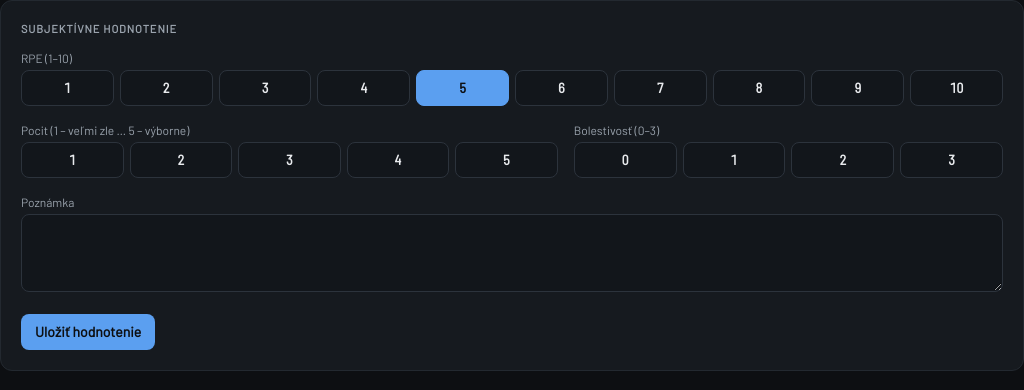
SubjectiveForm › posts the selection, clears a value by clicking it again and confirms the save
Click the 1st radio button labelled "5" at (463, 88), box [416,70,509,106]
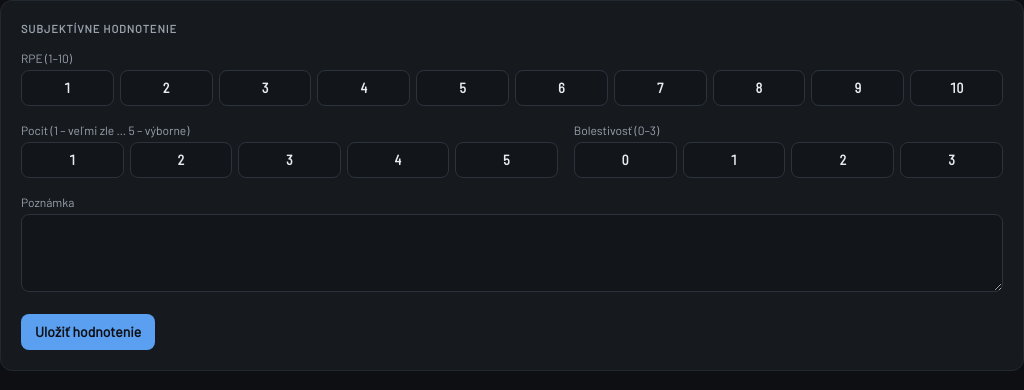
Click the radio button labelled "3" below "RPE (1–10)" at (265, 88), box [219,70,311,106]
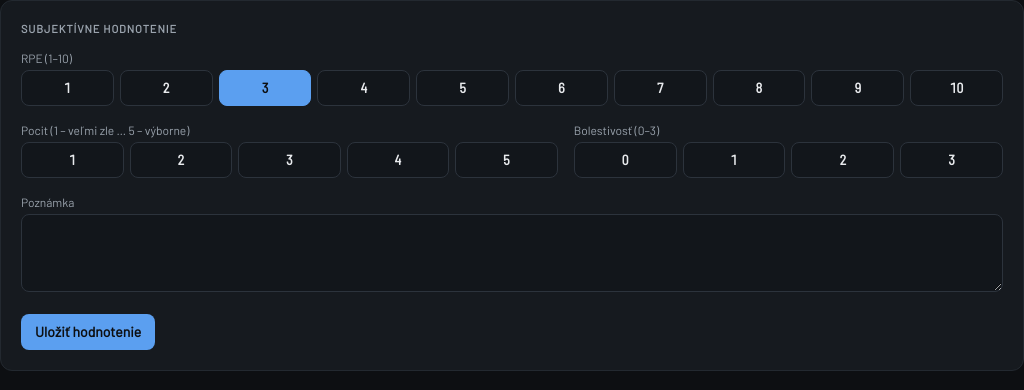
Type "  ťažké nohy " into the text box labelled "Poznámka" at (512, 252), box [21,214,1003,292]
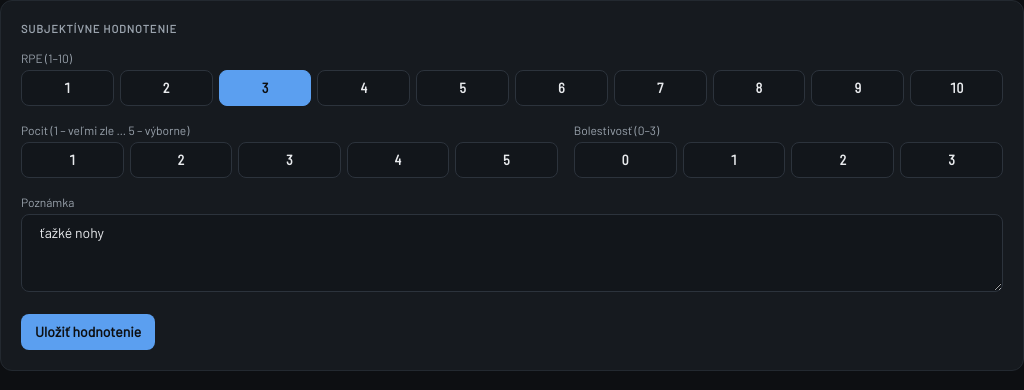
Click the button "Uložiť hodnotenie" at (88, 332), box [21,314,155,350]
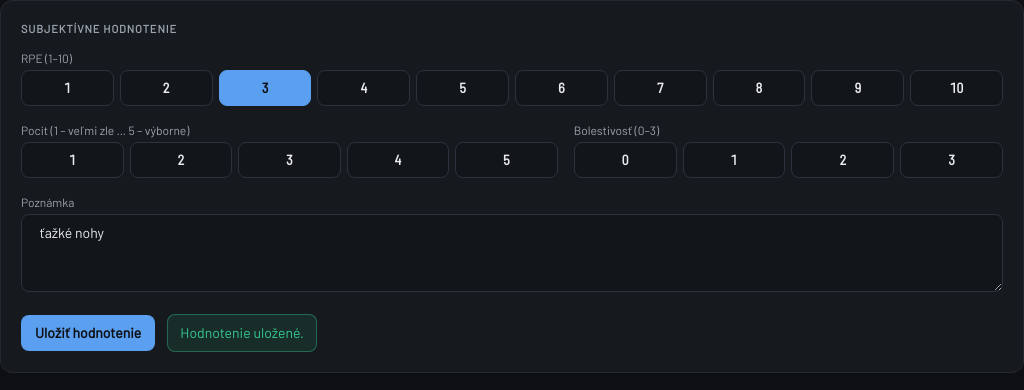
Expected: the text "Hodnotenie uložené." is shown, [167,314,317,352]
